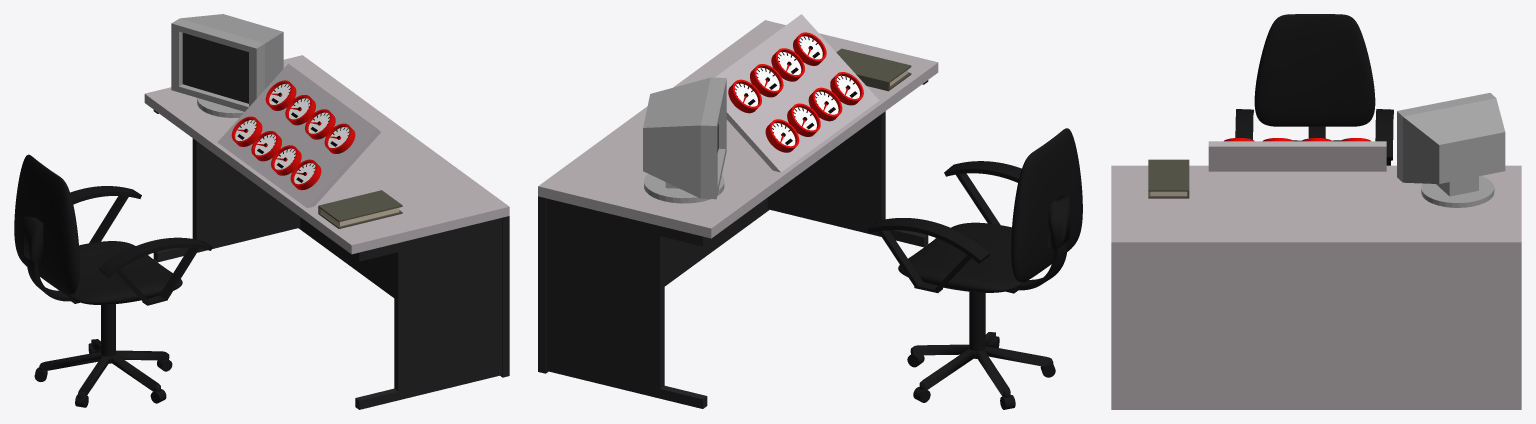
File: ControlRoom.fbx
3 renders of one model, left to right at view 1: azimuth 30°, elevation 25°; view 2: azimuth 150°, elevation 25°; view 3: azimuth 270°, elevation 25°, orthographic. The views are drawn at different scales.
Parts seen in each view (by area): view 1: DeskLegs, Chair, Computer, GaugeHolder, Book, GaugeMeter, GaugeMeter.003, GaugeMeter.007, GaugeMeter.004, GaugeMeter.001, GaugeMeter.002, GaugeMeter.005 (+1 smaller); view 2: DeskLegs, Chair, Computer, GaugeHolder, Book, GaugeMeter, GaugeMeter.004, GaugeMeter.005, GaugeMeter.001, GaugeMeter.002, GaugeMeter.007, GaugeMeter.006 (+1 smaller); view 3: DeskLegs, Chair, Computer, GaugeHolder, Book.
Part boxes in pixels (x1,y1,x2,y2): DeskLegs: [144, 55, 509, 409]; Chair: [14, 154, 212, 407]; Computer: [171, 14, 283, 117]; GaugeHolder: [217, 63, 380, 207]; Book: [318, 190, 402, 228]; GaugeMeter: [265, 80, 296, 110]; GaugeMeter.003: [324, 123, 355, 153]; GaugeMeter.007: [290, 159, 321, 190]; GaugeMeter.004: [231, 116, 262, 146]; GaugeMeter.001: [285, 94, 315, 125]; GaugeMeter.002: [305, 109, 335, 139]; GaugeMeter.005: [251, 131, 281, 161]; DeskLegs: [538, 20, 938, 408]; Chair: [866, 128, 1082, 409]; Computer: [643, 77, 726, 203]; GaugeHolder: [715, 14, 879, 172]; Book: [836, 48, 911, 91]; GaugeMeter: [728, 79, 761, 113]; GaugeMeter.004: [765, 119, 799, 152]; GaugeMeter.005: [787, 103, 820, 136]; GaugeMeter.001: [750, 64, 783, 97]; GaugeMeter.002: [771, 48, 804, 81]; GaugeMeter.007: [830, 72, 863, 105]; GaugeMeter.006: [808, 87, 842, 121]; DeskLegs: [1111, 165, 1521, 409]; Chair: [1235, 14, 1393, 165]; Computer: [1397, 93, 1505, 207]; GaugeHolder: [1208, 141, 1386, 171]; Book: [1148, 159, 1189, 198].
Size of the model in its own units: 30.8 by 29.4 by 20.3.
